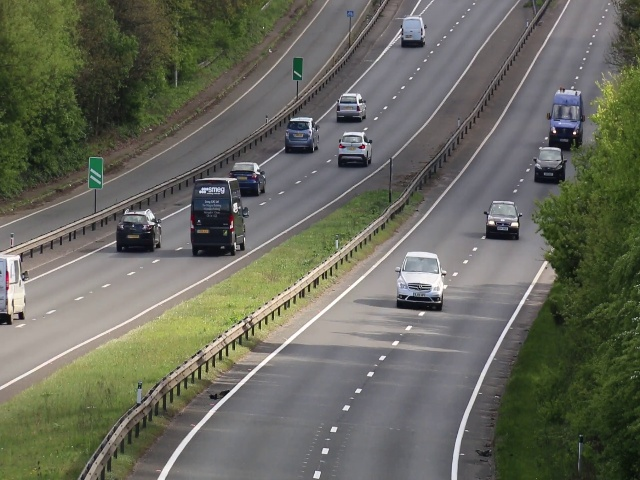car: (187, 177, 246, 255), (394, 250, 446, 311), (113, 209, 162, 254), (480, 197, 522, 240), (546, 91, 584, 138), (336, 128, 373, 167), (282, 116, 320, 152), (532, 143, 565, 182), (336, 89, 367, 123), (398, 14, 428, 46), (242, 161, 263, 199)
